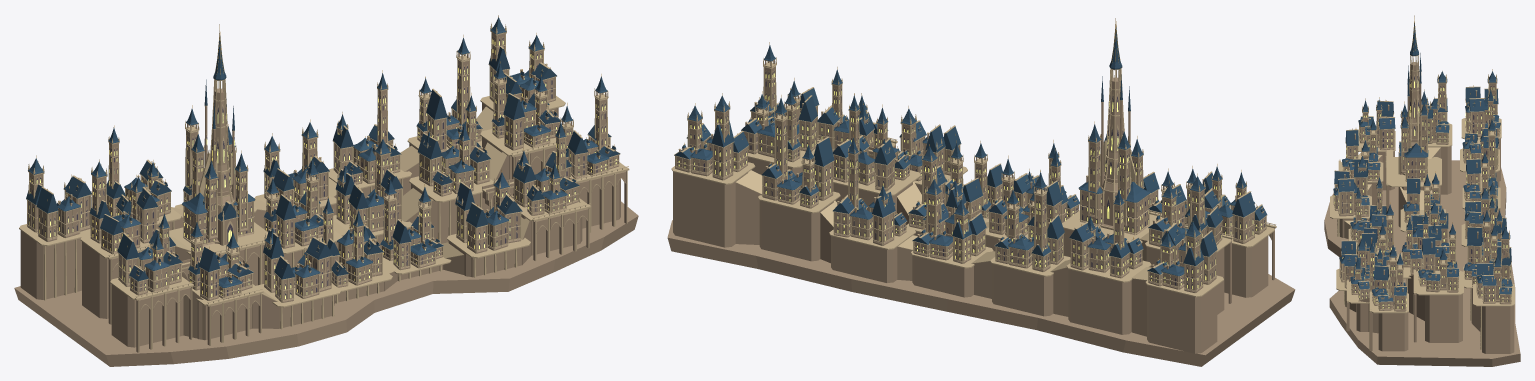
The model's file is city.glb.
3 renders of one model, left to right at view 1: azimuth 30°, elevation 25°; view 2: azimuth 150°, elevation 25°; view 3: azimuth 270°, elevation 25°, orthographic. The views are drawn at different scales.
Parts seen in each view (by area): view 1: Infrastructure.MasonryAndStreets, District.00.front.Terrace, District.14.rear.Terrace, Landmark.ArticulatedSpire, District.01.front.Terrace, District.06.front.Terrace, District.08.middle.Terrace, District.07.front.Terrace, District.02.front.Terrace, District.05.front.Terrace, District.12.middle.Terrace, District.09.landmark.Terrace (+63 smaller); view 2: Infrastructure.MasonryAndStreets, District.20.rear.Terrace, District.14.rear.Terrace, District.15.rear.Terrace, District.19.rear.Terrace, Landmark.ArticulatedSpire, District.16.rear.Terrace, District.18.rear.Terrace, District.00.front.Terrace, District.17.rear.Terrace, District.08.middle.Terrace, Landmark.Wing.-1 (+55 smaller); view 3: Infrastructure.MasonryAndStreets, District.13.middle.Terrace, District.20.rear.Terrace, District.07.front.Terrace, Landmark.ArticulatedSpire, District.09.landmark.Terrace, Landmark.Wing.1, District.08.middle.Terrace, District.06.front.Terrace, District.02.Palazzo.2, District.14.Palazzo.2, District.19.Palazzo.0 (+74 smaller).
Part boxes in pixels (left/top/right/bottom): Infrastructure.MasonryAndStreets: left=14, top=106, right=638, bottom=366; District.00.front.Terrace: left=110, top=277, right=193, bottom=352; District.14.rear.Terrace: left=19, top=224, right=90, bottom=300; Landmark.ArticulatedSpire: left=199, top=24, right=235, bottom=243; District.01.front.Terrace: left=192, top=284, right=263, bottom=345; District.06.front.Terrace: left=513, top=198, right=591, bottom=260; District.08.middle.Terrace: left=80, top=234, right=150, bottom=324; District.07.front.Terrace: left=571, top=162, right=629, bottom=232; District.02.front.Terrace: left=256, top=283, right=341, bottom=329; District.05.front.Terrace: left=447, top=234, right=530, bottom=277; District.12.middle.Terrace: left=409, top=176, right=497, bottom=243; District.09.landmark.Terrace: left=169, top=222, right=267, bottom=285; Infrastructure.MasonryAndStreets: left=667, top=170, right=1295, bottom=366; District.20.rear.Terrace: left=671, top=162, right=755, bottom=247; District.14.rear.Terrace: left=1145, top=275, right=1223, bottom=353; District.15.rear.Terrace: left=1066, top=260, right=1151, bottom=334; District.19.rear.Terrace: left=758, top=191, right=840, bottom=261; Landmark.ArticulatedSpire: left=1100, top=18, right=1136, bottom=230; District.16.rear.Terrace: left=990, top=256, right=1070, bottom=316; District.18.rear.Terrace: left=829, top=227, right=915, bottom=282; District.00.front.Terrace: left=1224, top=222, right=1276, bottom=297; District.17.rear.Terrace: left=911, top=246, right=993, bottom=297; District.08.middle.Terrace: left=1145, top=224, right=1233, bottom=314; Landmark.Wing.-1: left=1115, top=180, right=1150, bottom=235; Infrastructure.MasonryAndStreets: left=1324, top=139, right=1520, bottom=366; District.13.middle.Terrace: left=1413, top=268, right=1463, bottom=342; District.20.rear.Terrace: left=1473, top=283, right=1514, bottom=353; District.07.front.Terrace: left=1369, top=290, right=1408, bottom=351; Landmark.ArticulatedSpire: left=1402, top=15, right=1427, bottom=175; District.09.landmark.Terrace: left=1386, top=155, right=1441, bottom=215; Landmark.Wing.1: left=1404, top=143, right=1428, bottom=182; District.08.middle.Terrace: left=1428, top=123, right=1452, bottom=194; District.06.front.Terrace: left=1346, top=279, right=1389, bottom=331; District.02.Palazzo.2: left=1337, top=177, right=1354, bottom=216; District.14.Palazzo.2: left=1468, top=98, right=1484, bottom=136; District.19.Palazzo.0: left=1466, top=225, right=1482, bottom=263.
Bounding box in the file's own units: 266 × 131 × 111.
